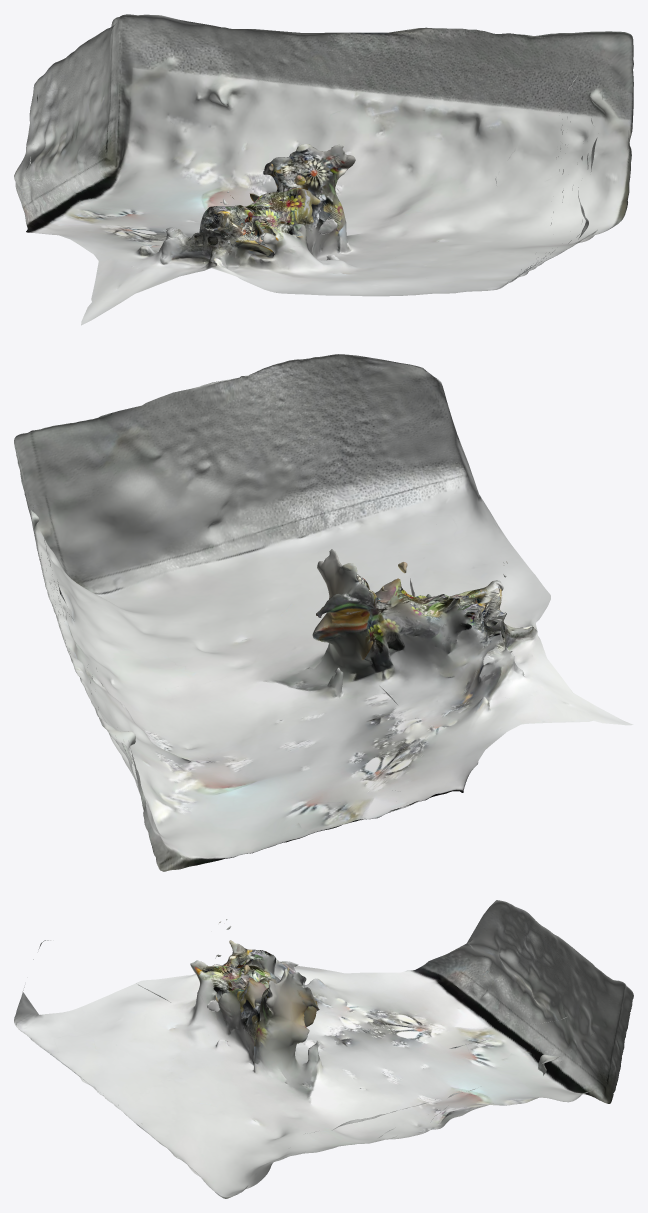
3 views of the same model, one above another, from view 1: azimuth 30°, elevation 25°; view 2: azimuth 150°, elevation 25°; view 3: azimuth 270°, elevation 25° (orthographic). The views are drawn at different scales.
Size of the model in its own units: 1.42 by 0.5735 by 1.52.
1 material, 1 textured.
